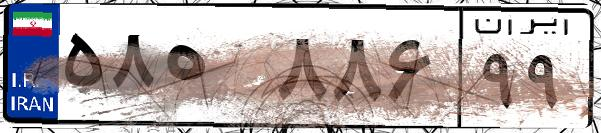5: (57, 26, 110, 100)
6: (385, 28, 445, 110)
8: (270, 28, 330, 110), (330, 28, 385, 110), (110, 28, 158, 98)
9: (475, 38, 525, 113), (525, 38, 570, 115)
ه: (158, 20, 270, 120)
